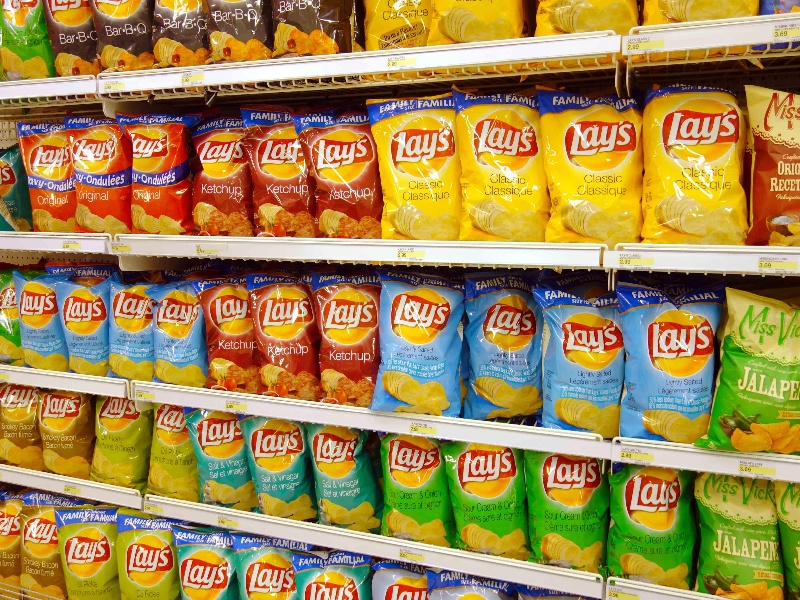chips: (534, 85, 650, 244), (642, 90, 751, 250), (451, 90, 555, 247), (614, 283, 714, 445), (706, 286, 799, 452), (367, 99, 467, 245), (372, 270, 472, 415), (596, 461, 701, 594), (540, 287, 625, 437), (690, 468, 783, 600), (460, 282, 548, 421), (524, 445, 614, 579), (446, 440, 536, 565), (296, 114, 382, 239), (309, 268, 382, 411), (242, 105, 319, 238), (119, 113, 197, 241), (239, 417, 323, 530), (376, 432, 453, 551), (181, 122, 258, 238), (186, 411, 263, 516), (67, 118, 133, 237), (258, 274, 319, 396), (195, 276, 258, 394), (320, 427, 385, 536), (141, 284, 206, 388), (16, 124, 77, 234), (88, 399, 154, 490), (50, 275, 108, 375), (37, 391, 99, 482), (105, 278, 156, 384), (146, 402, 195, 503)
